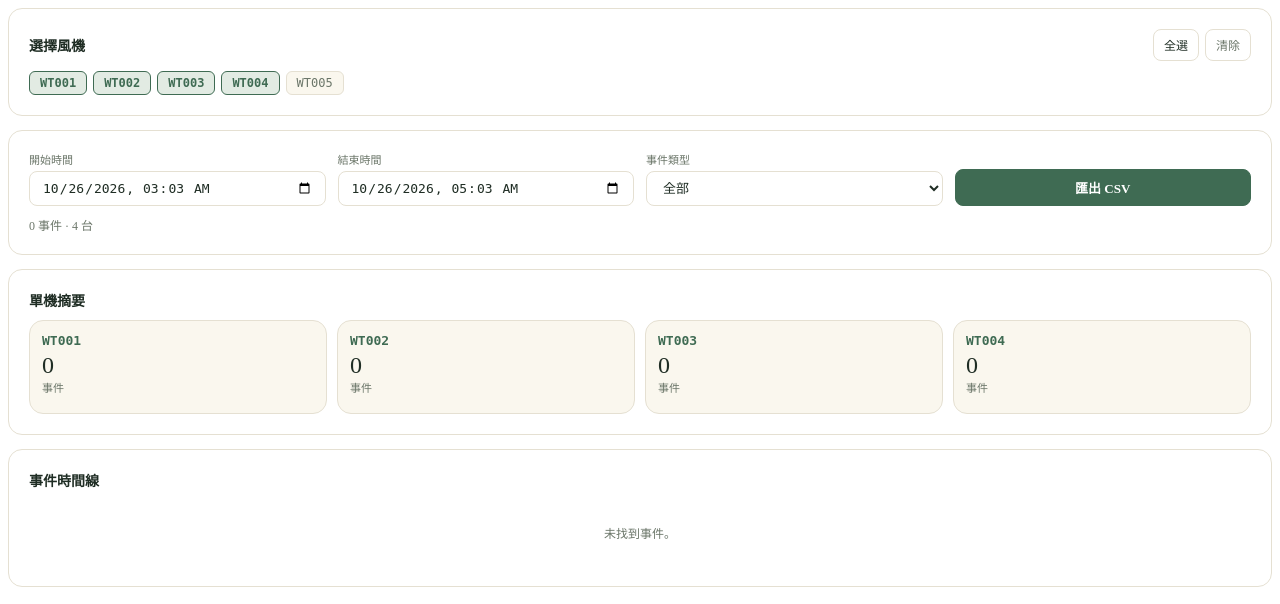
Test: EventComparisonView — 風機選擇器 › 「清除」→ 全部風機 pressed=false + 單機摘要隱藏
Click the button "清除" at (1228, 45), box [1205, 29, 1251, 61]
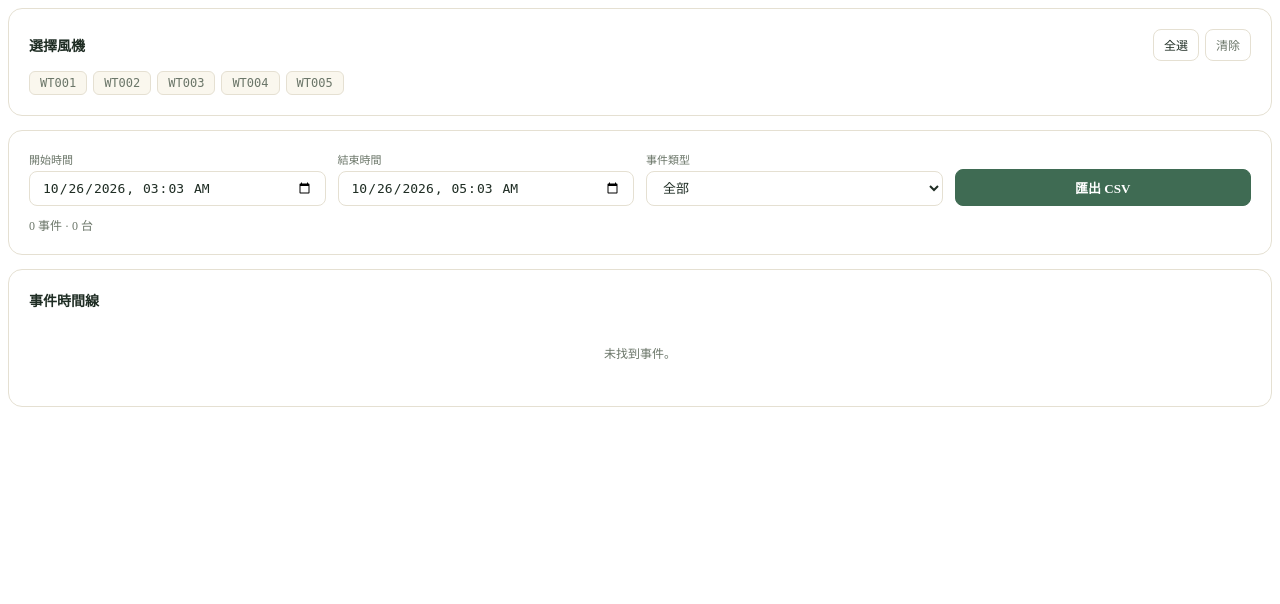
Expected: the button "WT001" is shown, [29, 71, 87, 95]
Result: the text "單機摘要" is gone
